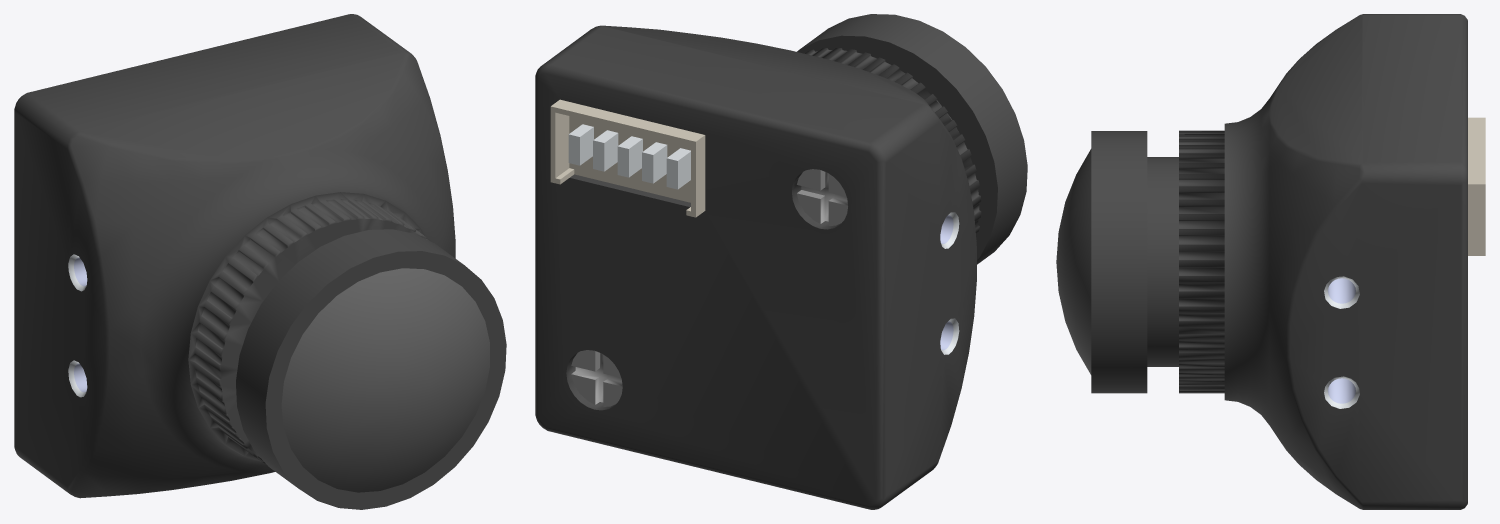
File: foxeer_t_rex_mini.obj
The picture shows the model from 3 angles, left to right: view 1: azimuth 30°, elevation 25°; view 2: azimuth 150°, elevation 25°; view 3: azimuth 270°, elevation 25°; orthographic projection. The views are drawn at different scales.
Parts seen in each view (by area): view 1: Пожарник_П-2.2_Foxeer_T-Rex_Mini_1500TVL_v4; view 2: Пожарник_П-2.2_Foxeer_T-Rex_Mini_1500TVL_v4; view 3: Пожарник_П-2.2_Foxeer_T-Rex_Mini_1500TVL_v4.
Boxes of the visible parts, left/top/right/bottom form: Пожарник_П-2.2_Foxeer_T-Rex_Mini_1500TVL_v4: left=14, top=14, right=506, bottom=509; Пожарник_П-2.2_Foxeer_T-Rex_Mini_1500TVL_v4: left=535, top=14, right=1027, bottom=509; Пожарник_П-2.2_Foxeer_T-Rex_Mini_1500TVL_v4: left=1056, top=14, right=1485, bottom=509.
Bounding box in the file's own units: 0.0218 × 0.0218 × 0.0245.
